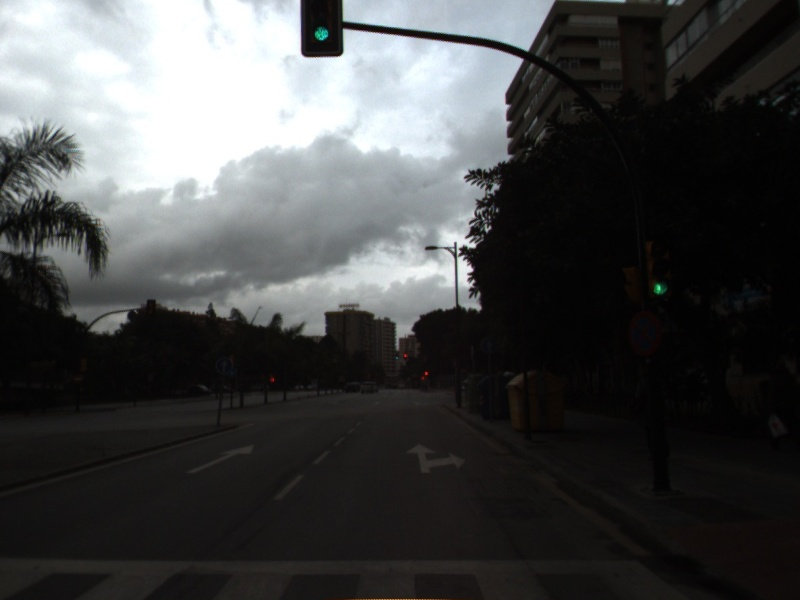STRAIGHT: (183, 442, 257, 475)
STRAIGHT_RIGHT: (403, 441, 469, 476)
